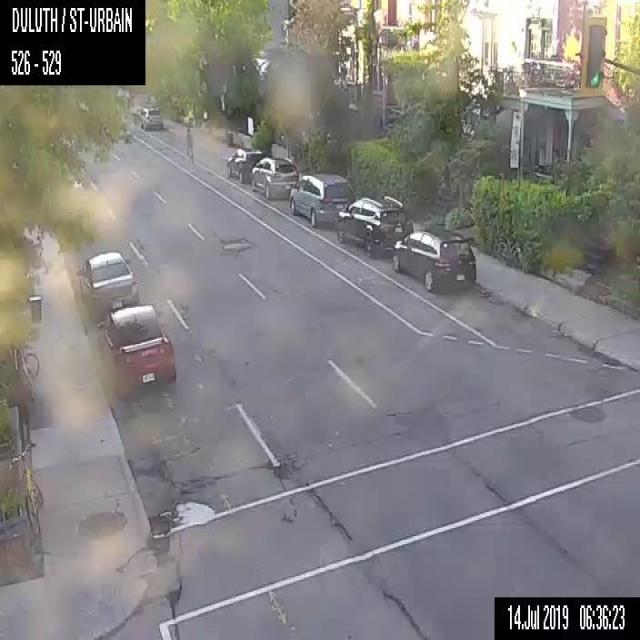cyclist: (183, 126, 195, 163)
vehicle: (94, 303, 176, 392), (393, 229, 476, 292), (335, 196, 413, 258), (76, 251, 138, 320), (290, 174, 356, 228), (252, 157, 298, 199), (228, 148, 264, 182), (138, 106, 164, 130)
